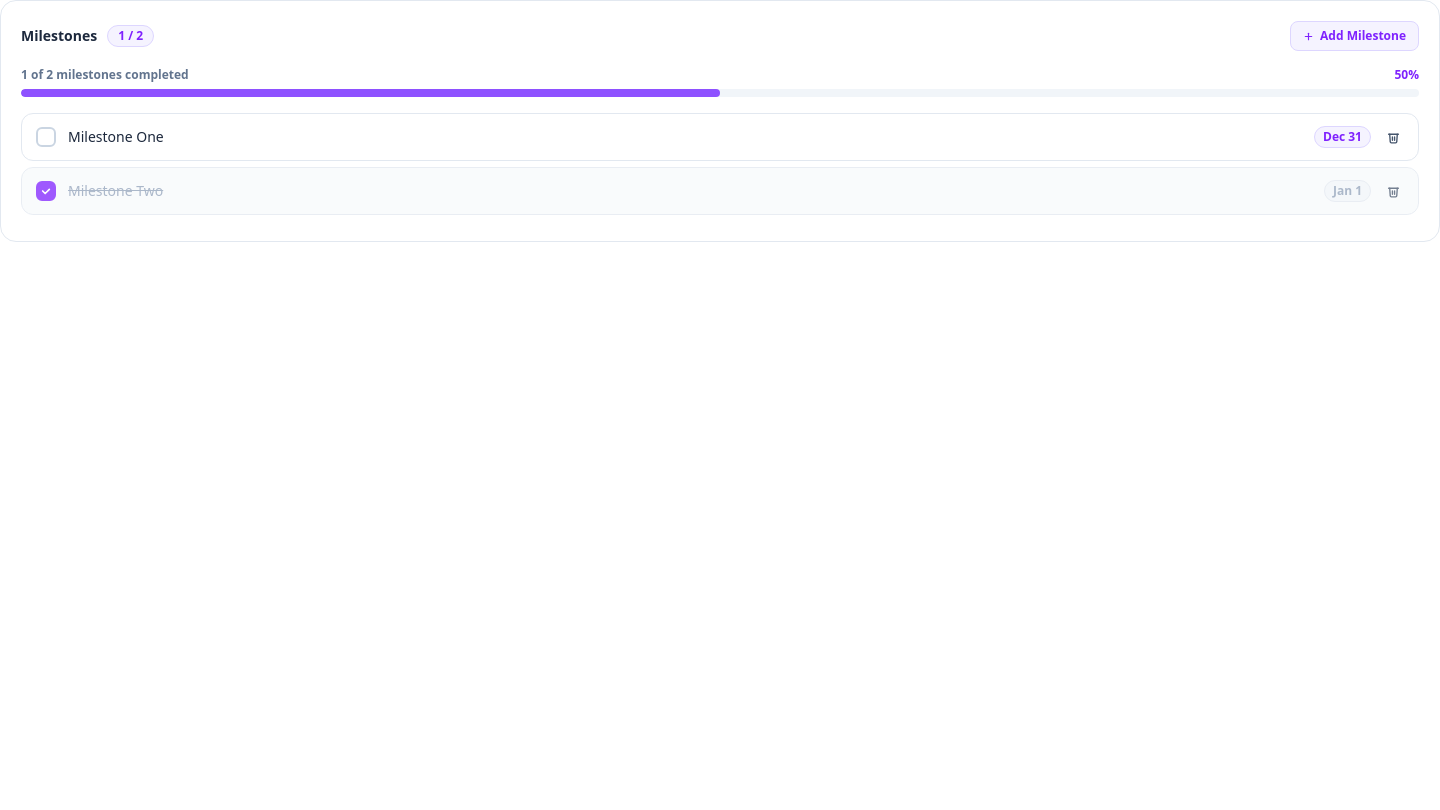
Scenario: MilestoneList › should open validation dialog configurations and handle confirmation selections safely
This screenshot has width=1440, height=810.
Click the 3rd button: (1394, 137) [1383,126,1404,148]
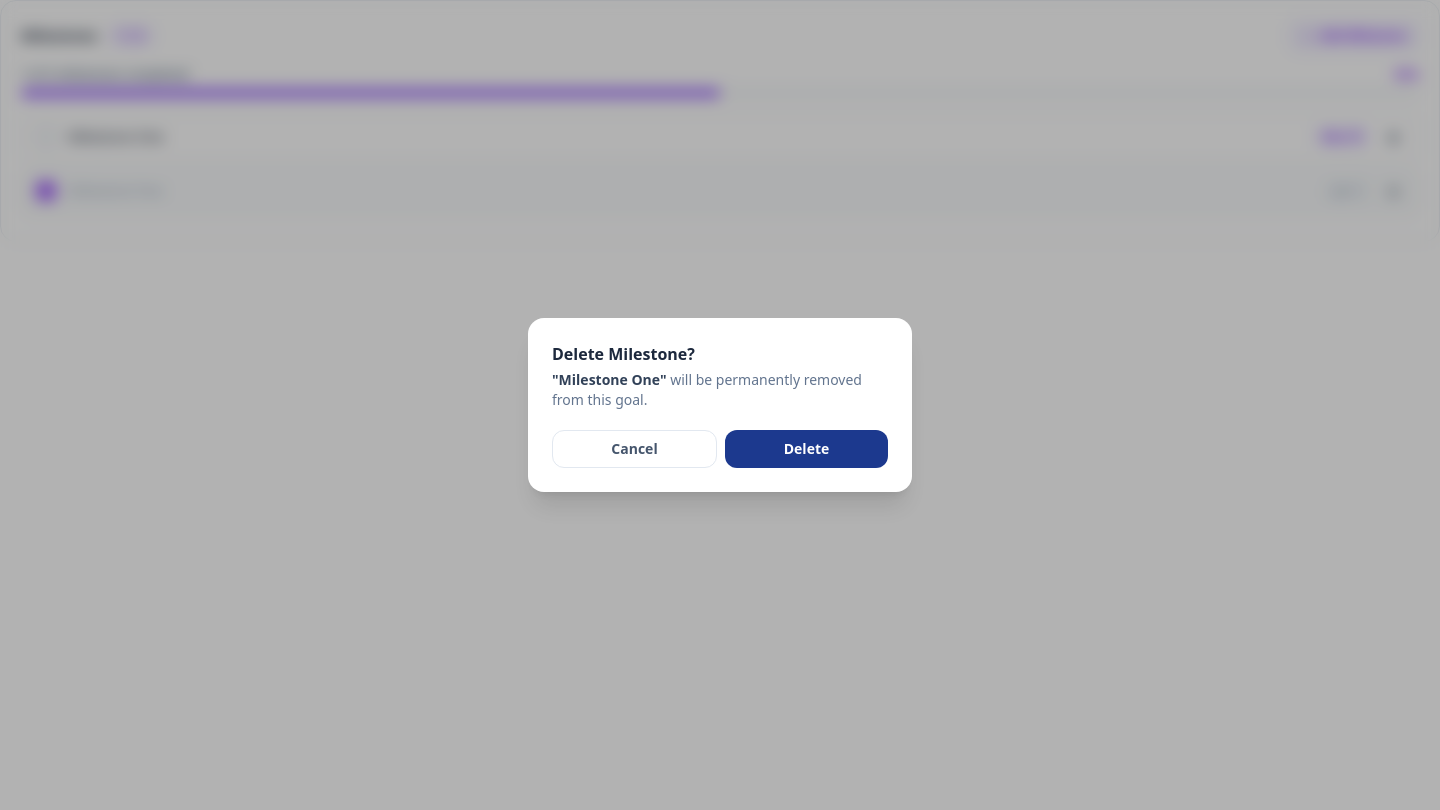
expect the heading "Delete Milestone?" is shown: met, box [552,343,695,365]
Click the button "Delete": (806, 449) [725,430,888,468]
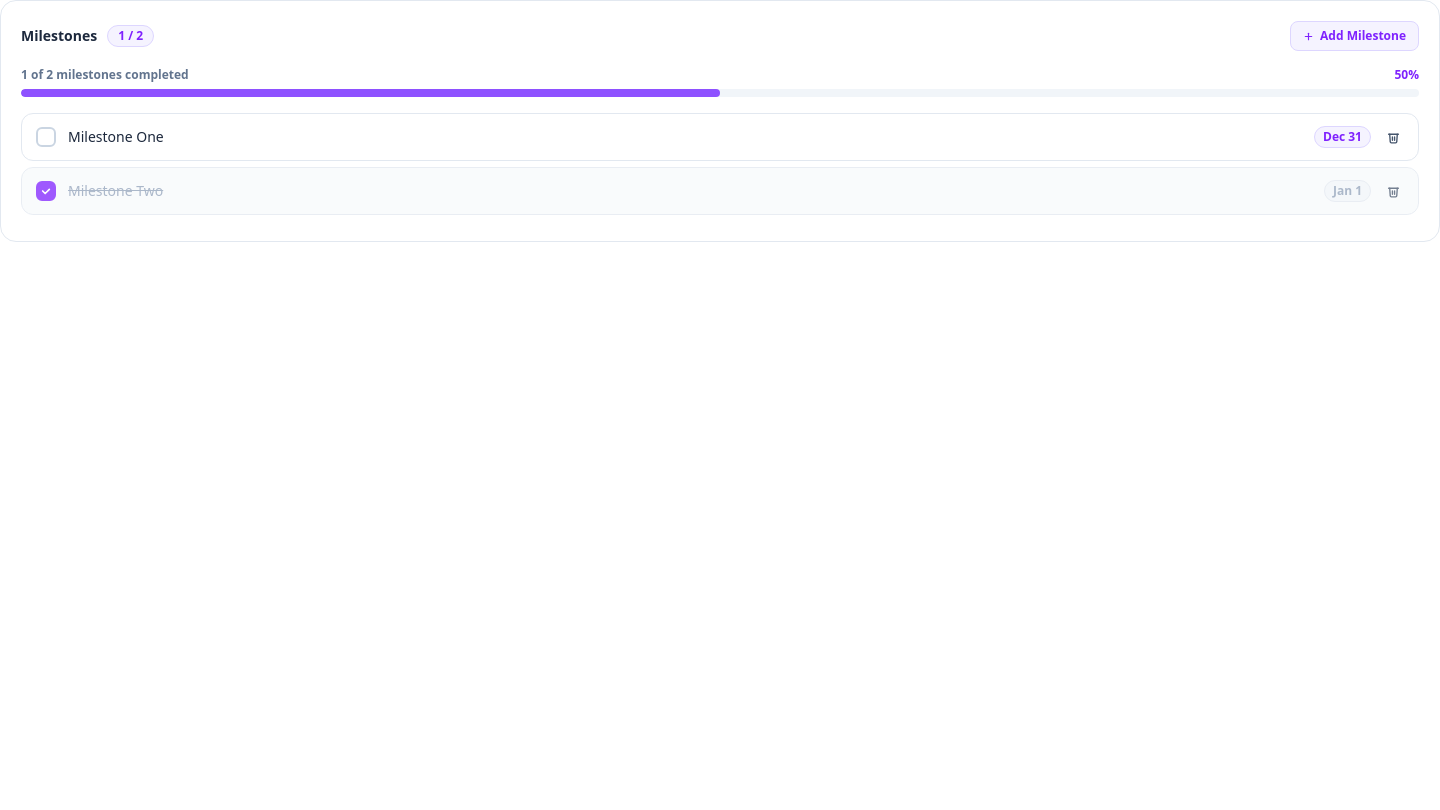
expect the heading "Delete Milestone?" is gone: met
